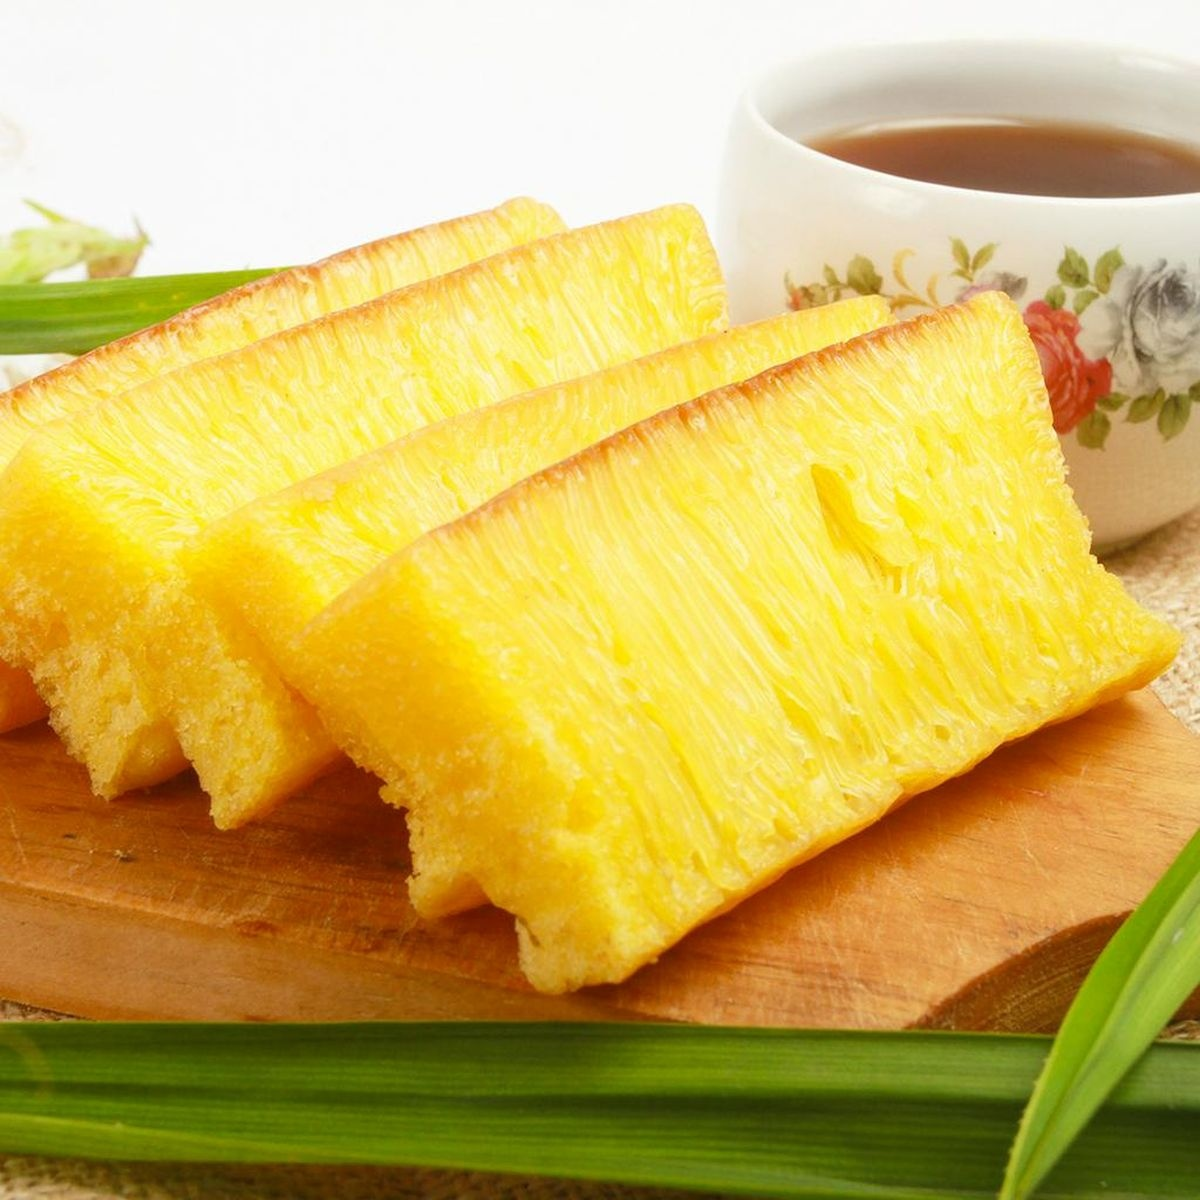bika_ambon: (34, 292, 1169, 954), (377, 268, 1142, 986)
